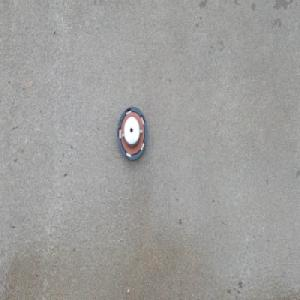FuelCap: (116, 104, 148, 161)
